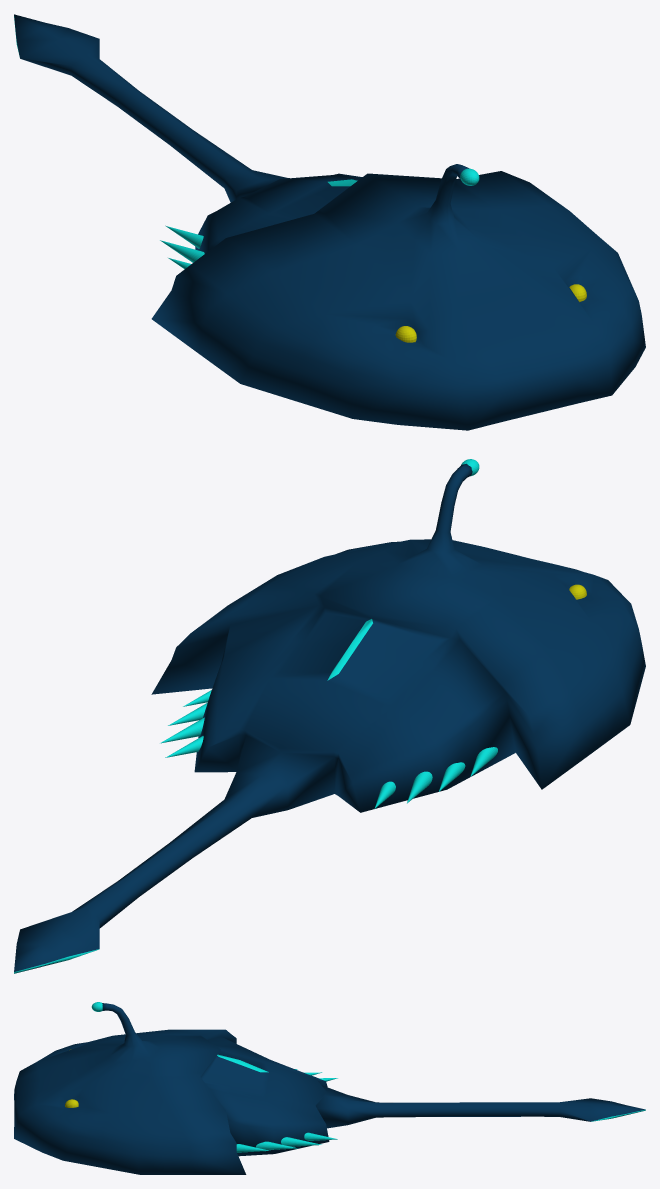
Rendered from Minion8Import2 (3).fbx.
The picture shows the model from 3 angles, top to bottom: view 1: azimuth 30°, elevation 25°; view 2: azimuth 150°, elevation 25°; view 3: azimuth 270°, elevation 25°; orthographic projection. The views are drawn at different scales.
Visible parts, largest first — view 1: Cube; view 2: Cube; view 3: Cube.
Part boxes in pixels (box(x1,y1,x2,y2)): Cube: box(14, 14, 645, 430); Cube: box(14, 459, 645, 973); Cube: box(14, 1002, 645, 1174).
Size of the model in its own units: 276 by 129 by 643.
